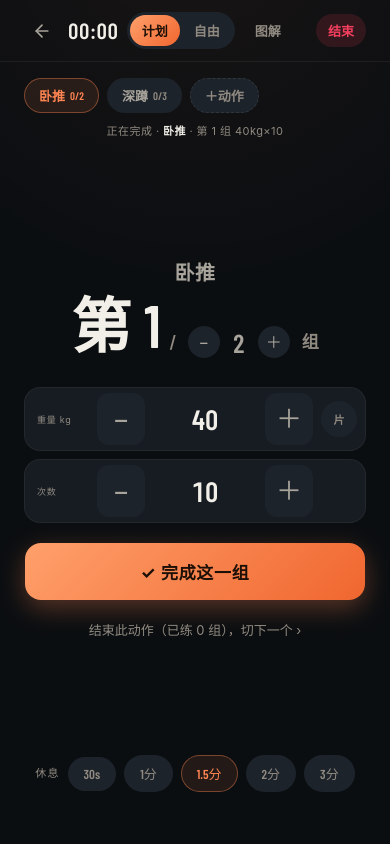
Test: WorkoutPage 动作训练 › 杠铃换算：卧推显示空杆/单边选择，总重联动
Click the button with class "workout__bar-toggle" at (339, 419), box left=321, top=401, right=357, bottom=437
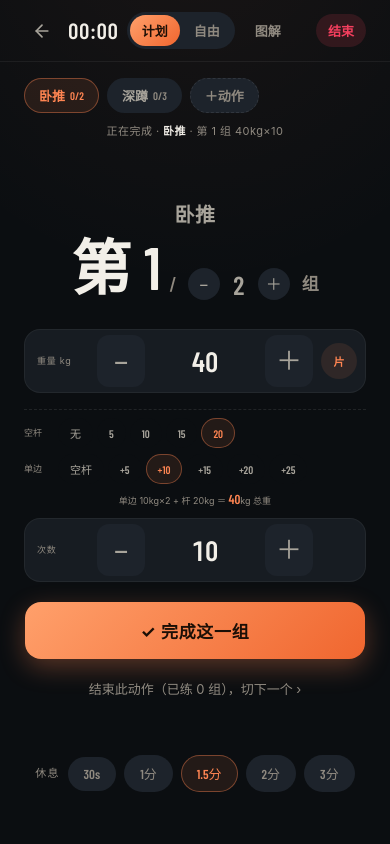
Result: the element with class "workout__barbell-sum" shows "＝" at left=204, top=495, right=228, bottom=506
# 点单边 +15 → 总重变 50
Click the button with class "workout__barbell-chip" showing "+15" at (205, 469), box left=186, top=454, right=223, bottom=484
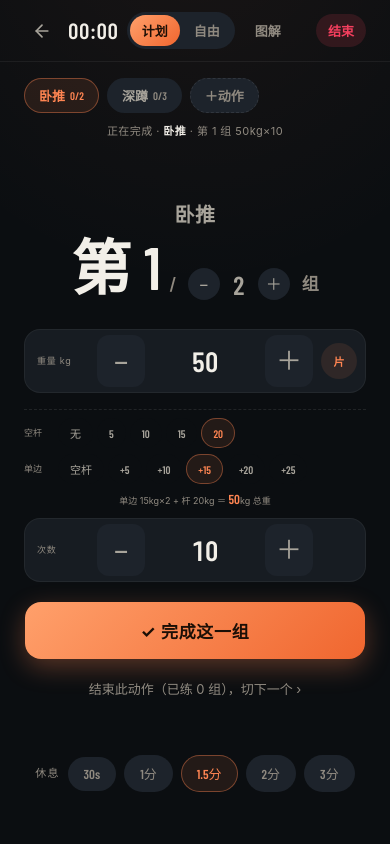
Result: the button with class "workout__param-value" reads "50" at left=169, top=344, right=241, bottom=378
